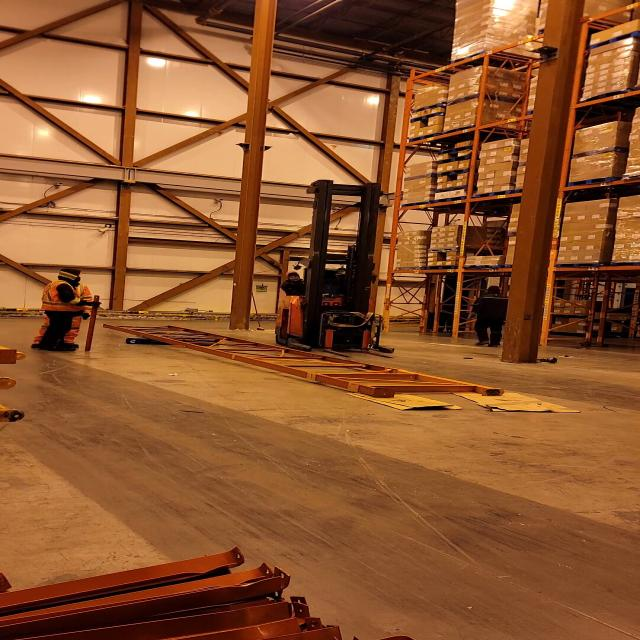forklift: (273, 185, 399, 356)
human: (32, 267, 98, 353), (52, 270, 92, 351), (470, 281, 514, 350), (274, 269, 326, 300)
objectofinterest: (101, 319, 508, 400), (444, 381, 581, 415), (336, 383, 466, 411), (120, 332, 162, 350)
